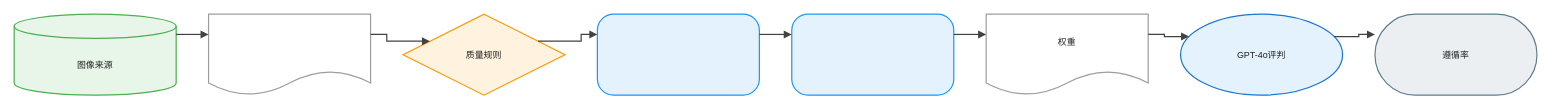
This 1552x110 diagram has some shape labels left out. Each missing label, with the centre of its shape:
"人工提示" goes at pixel 289 54.
"八类指令" goes at pixel 678 54.
"复杂度" goes at pixel 872 54.
